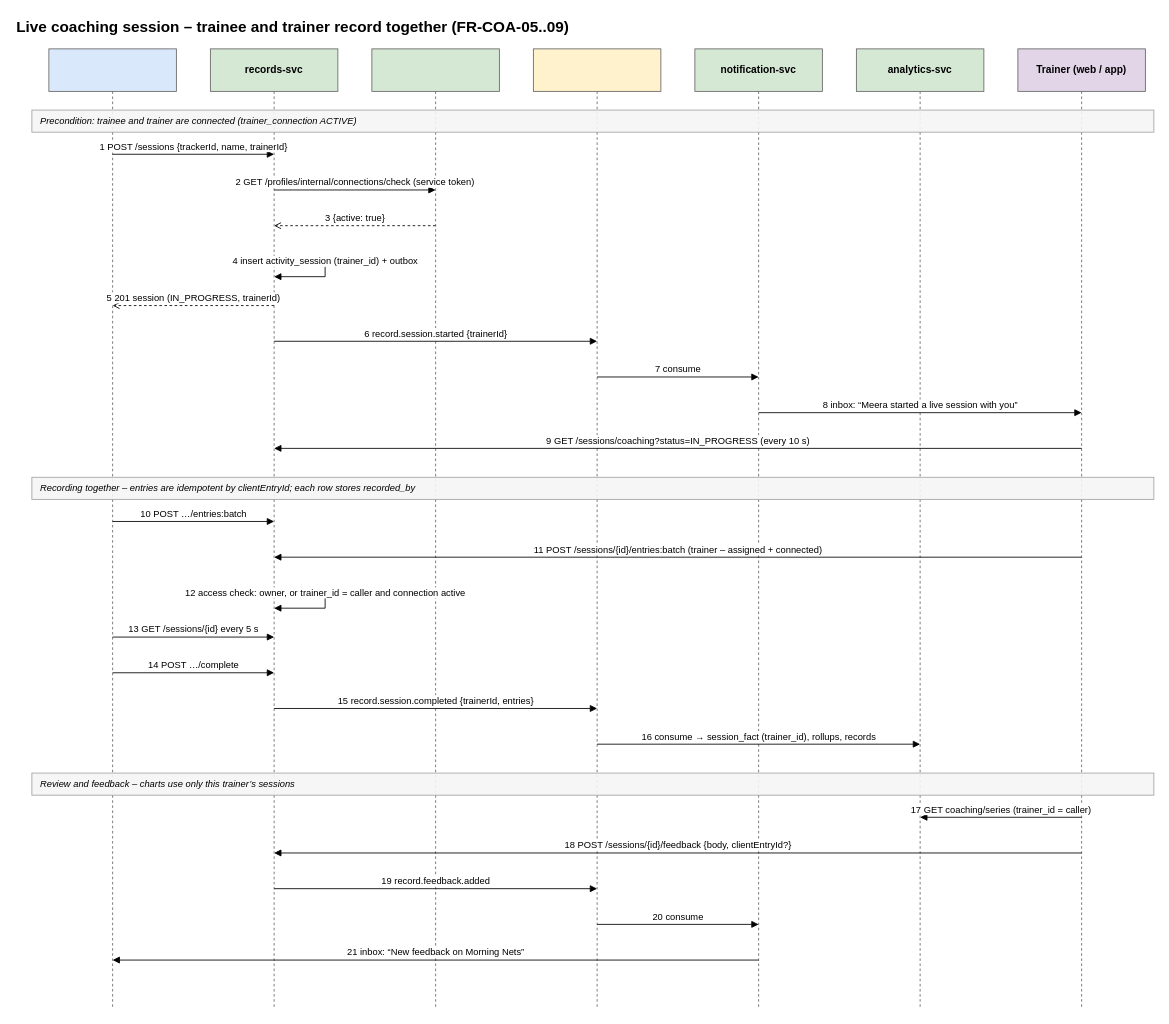
Image size: 1169x1024. Some labels were removed from this diagram. The box of each missing label's shape, as (x1, y1, x2, y2) in pixels:
Kafka (record.* / user.*): (533, 48, 661, 1009)
Trainee (web / app): (48, 48, 176, 1009)
user-profile-svc: (371, 48, 499, 1009)
